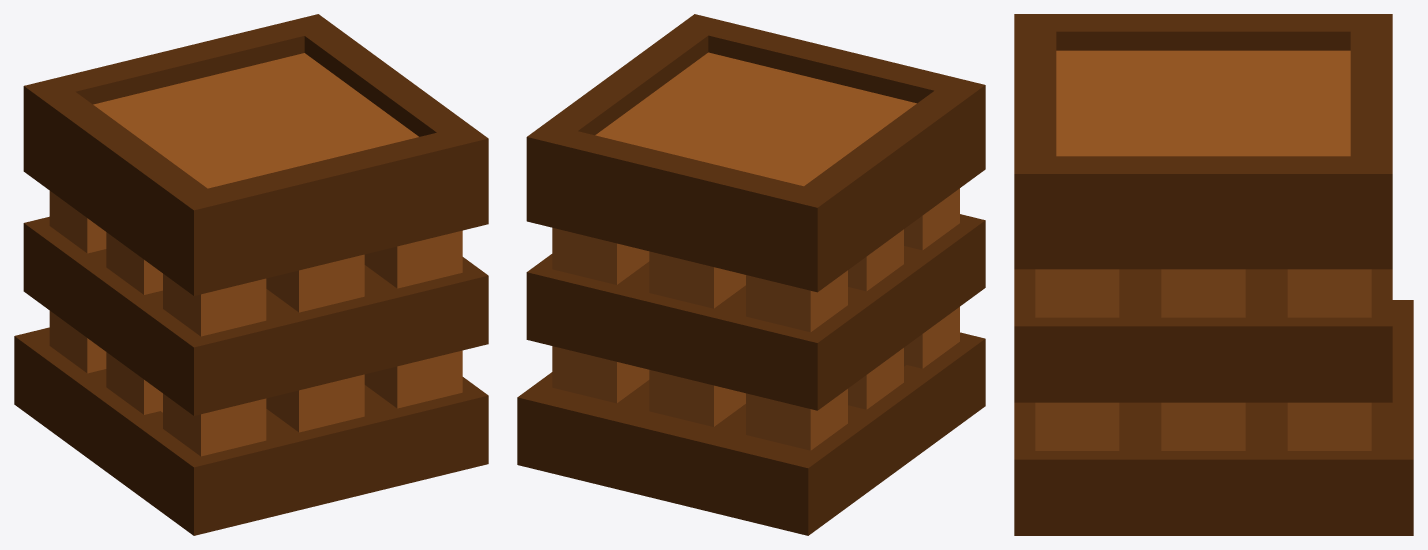
The model's file is GGJ_Barrel.obj.
3 views of the same model, side by side, from view 1: azimuth 30°, elevation 25°; view 2: azimuth 150°, elevation 25°; view 3: azimuth 270°, elevation 25° (orthographic). The views are drawn at different scales.
Size of the model in its own units: 1.8 by 1.9 by 1.9.
Materials: 1 (1 with a texture image).
